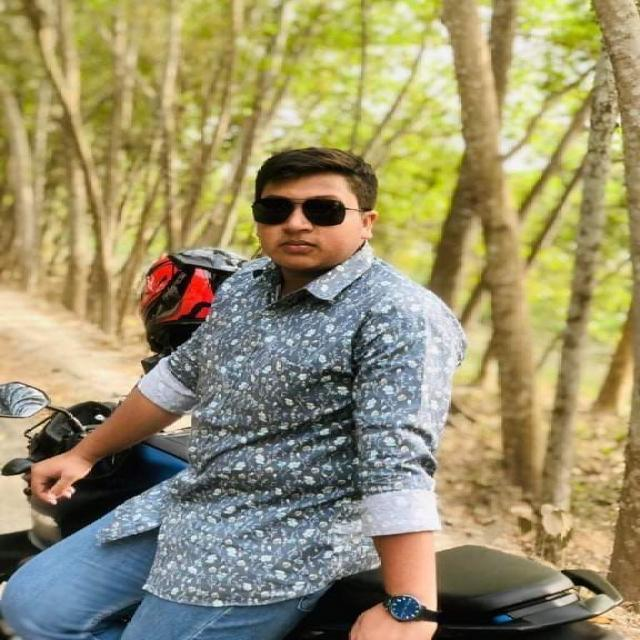No helmet: (250, 147, 386, 285)
